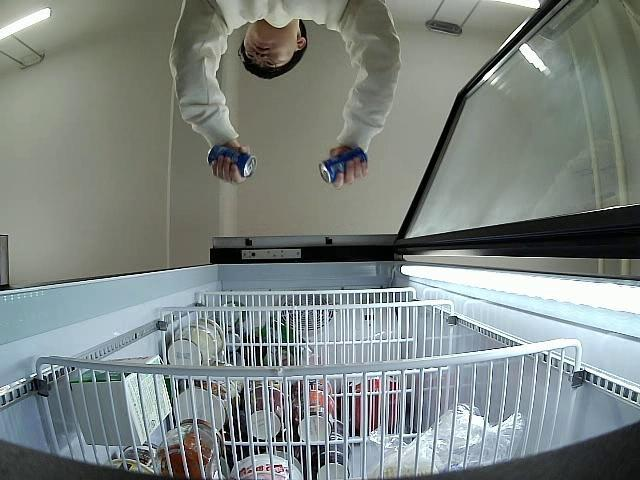15_letsbe: (318, 147, 369, 185), (207, 145, 256, 178)
